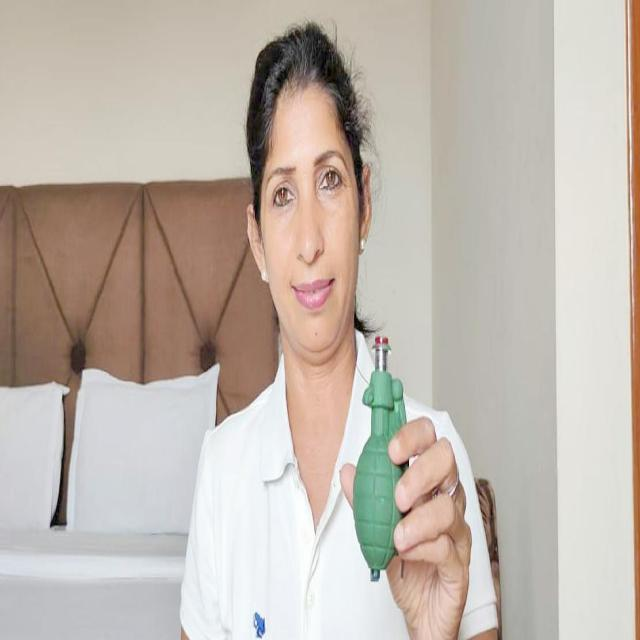grenade: (354, 338, 410, 582)
